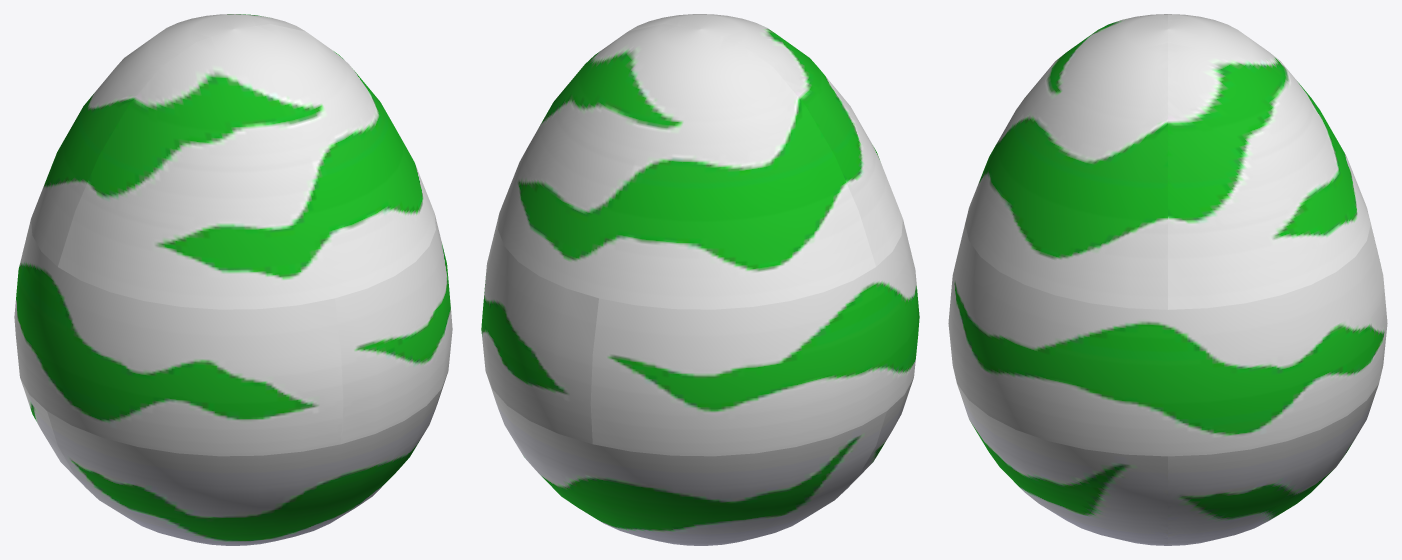
Rendered from GreenEgg.dae.
3 renders of one model, left to right at view 1: azimuth 30°, elevation 25°; view 2: azimuth 150°, elevation 25°; view 3: azimuth 270°, elevation 25°, orthographic.
Parts seen in each view (by area): view 1: Egg; view 2: Egg; view 3: Egg.
Boxes of the visible parts, x1,y1,x2,y2 form: Egg: (14, 14, 452, 545); Egg: (481, 14, 919, 545); Egg: (948, 14, 1387, 545).
Bounding box in the file's own units: 0.7112 × 0.8871 × 0.7112.
Materials: 1 (1 with a texture image).
